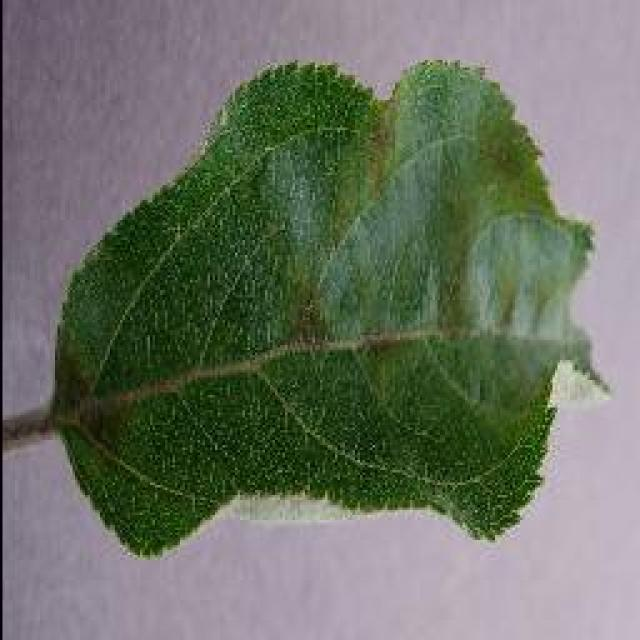apple scab disease: (40, 55, 610, 557)
